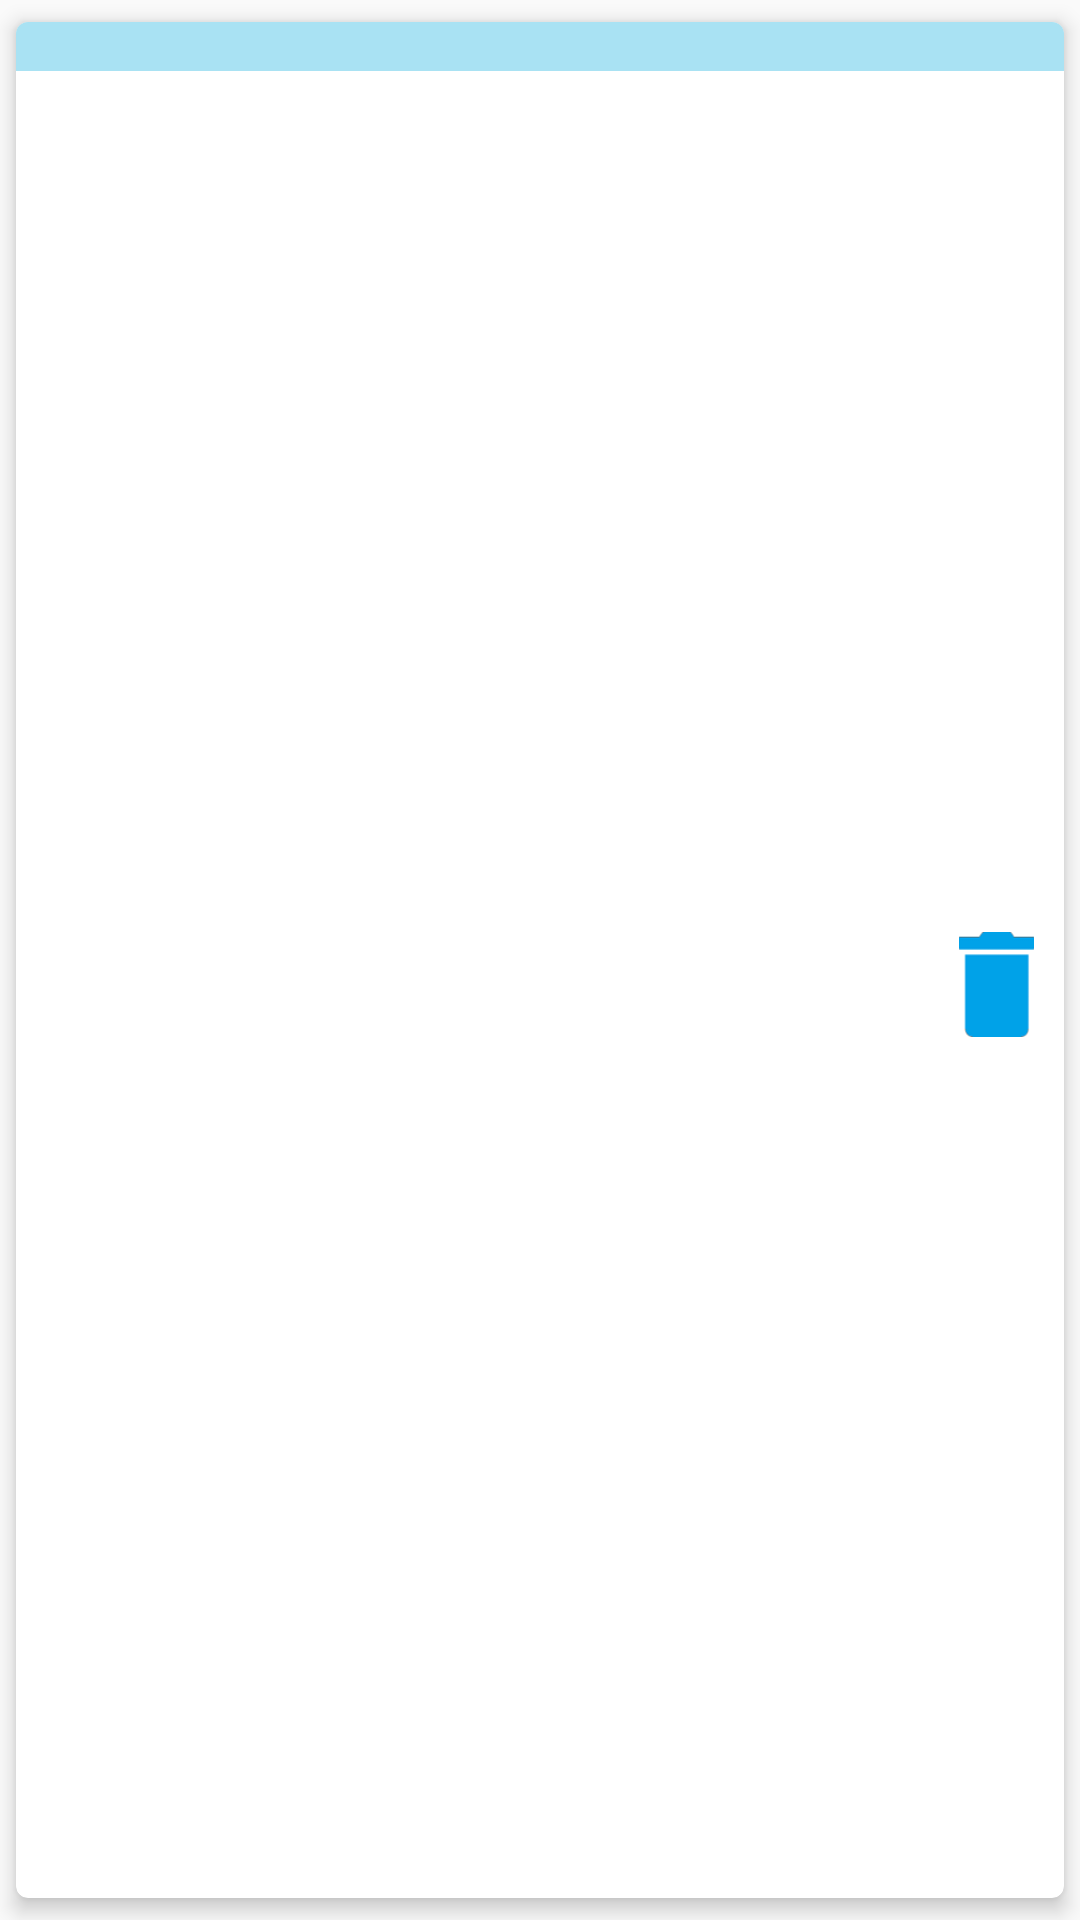

Locate icon controls on the screen. Image size 1080w x 1920h, boxes as [x1, y1, x2, y2].
trash: [959, 932, 1034, 1037]
